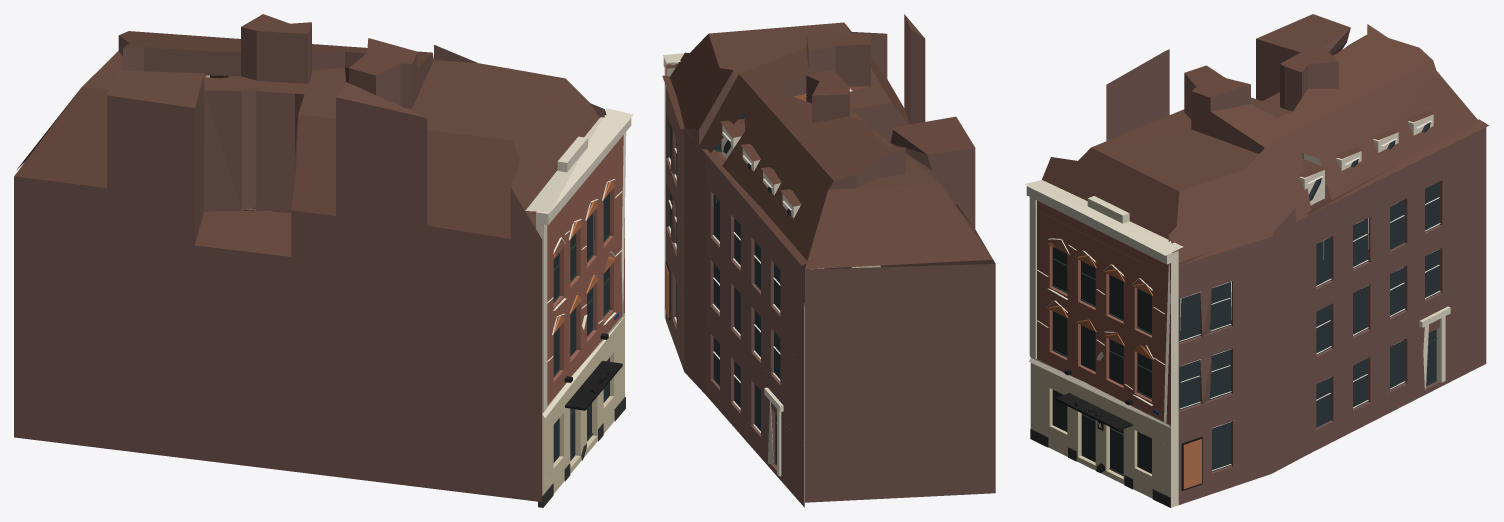
The model's file is bitterzoet.lod1.glb.
3 views of the same model, side by side, from view 1: azimuth 30°, elevation 25°; view 2: azimuth 150°, elevation 25°; view 3: azimuth 270°, elevation 25° (orthographic). The views are drawn at different scales.
Parts seen in each view (by area): view 1: bitterzoet; view 2: bitterzoet; view 3: bitterzoet.
Boxes of the visible parts, box(x1,y1,x2,y2) form: bitterzoet: box(14, 14, 633, 507); bitterzoet: box(662, 14, 995, 507); bitterzoet: box(1025, 14, 1488, 507).
Size of the model in its own units: 26.72 by 20.19 by 24.95.
